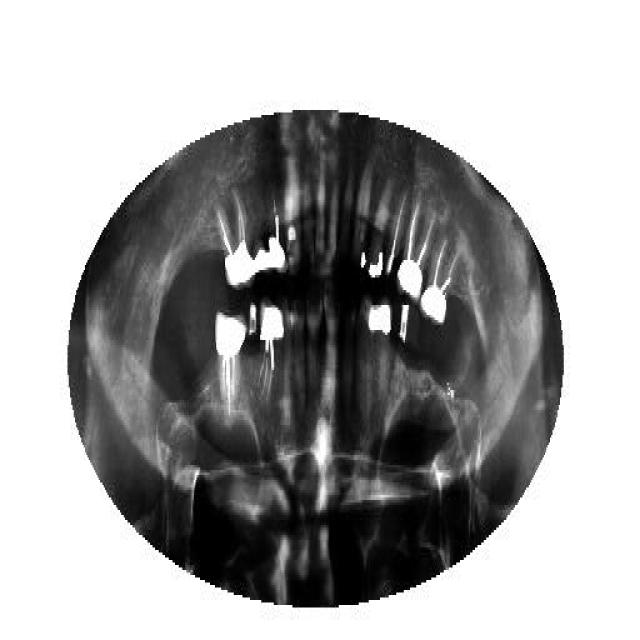Fillings: (367, 175, 392, 280), (373, 295, 392, 410), (292, 295, 306, 405), (282, 295, 294, 395), (254, 225, 270, 280)
Implant: (398, 200, 437, 302), (215, 190, 254, 290), (212, 310, 246, 422), (421, 230, 459, 328), (255, 298, 284, 398), (385, 185, 407, 287), (267, 177, 285, 275)
